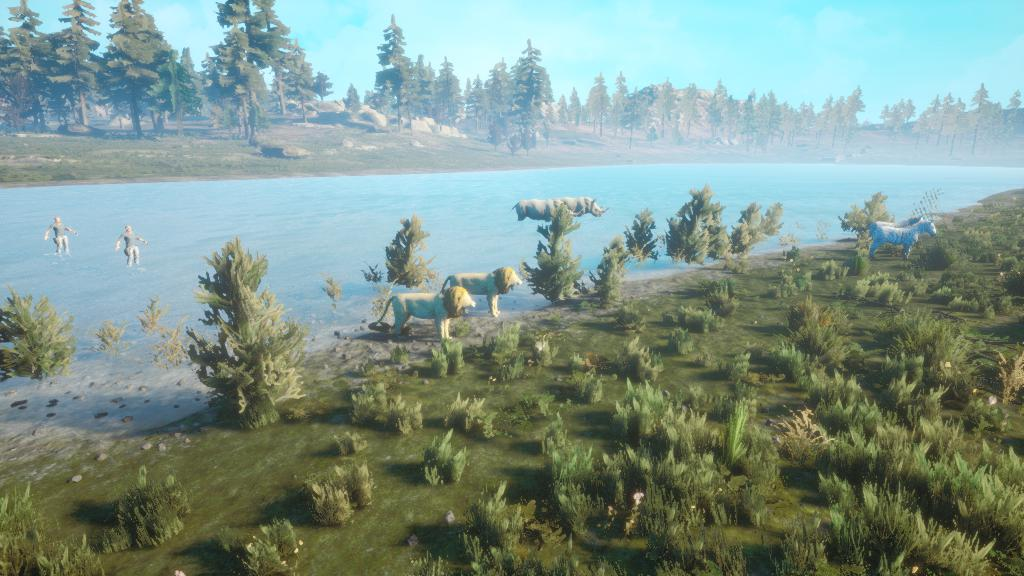human: (113, 222, 152, 269), (43, 214, 79, 260)
lion: (379, 283, 476, 347), (443, 263, 526, 319)
rhinoceros: (512, 197, 580, 228), (547, 192, 612, 222)
zebra: (863, 219, 939, 259), (864, 211, 929, 249)
